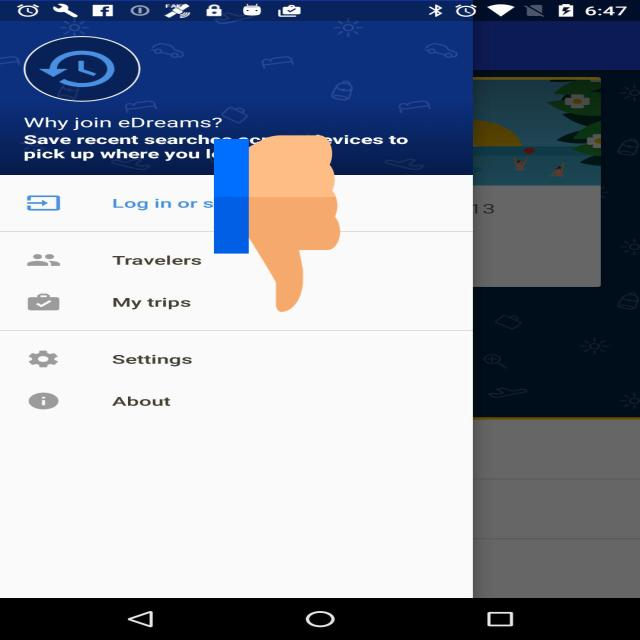obstruction: (214, 131, 340, 316)
